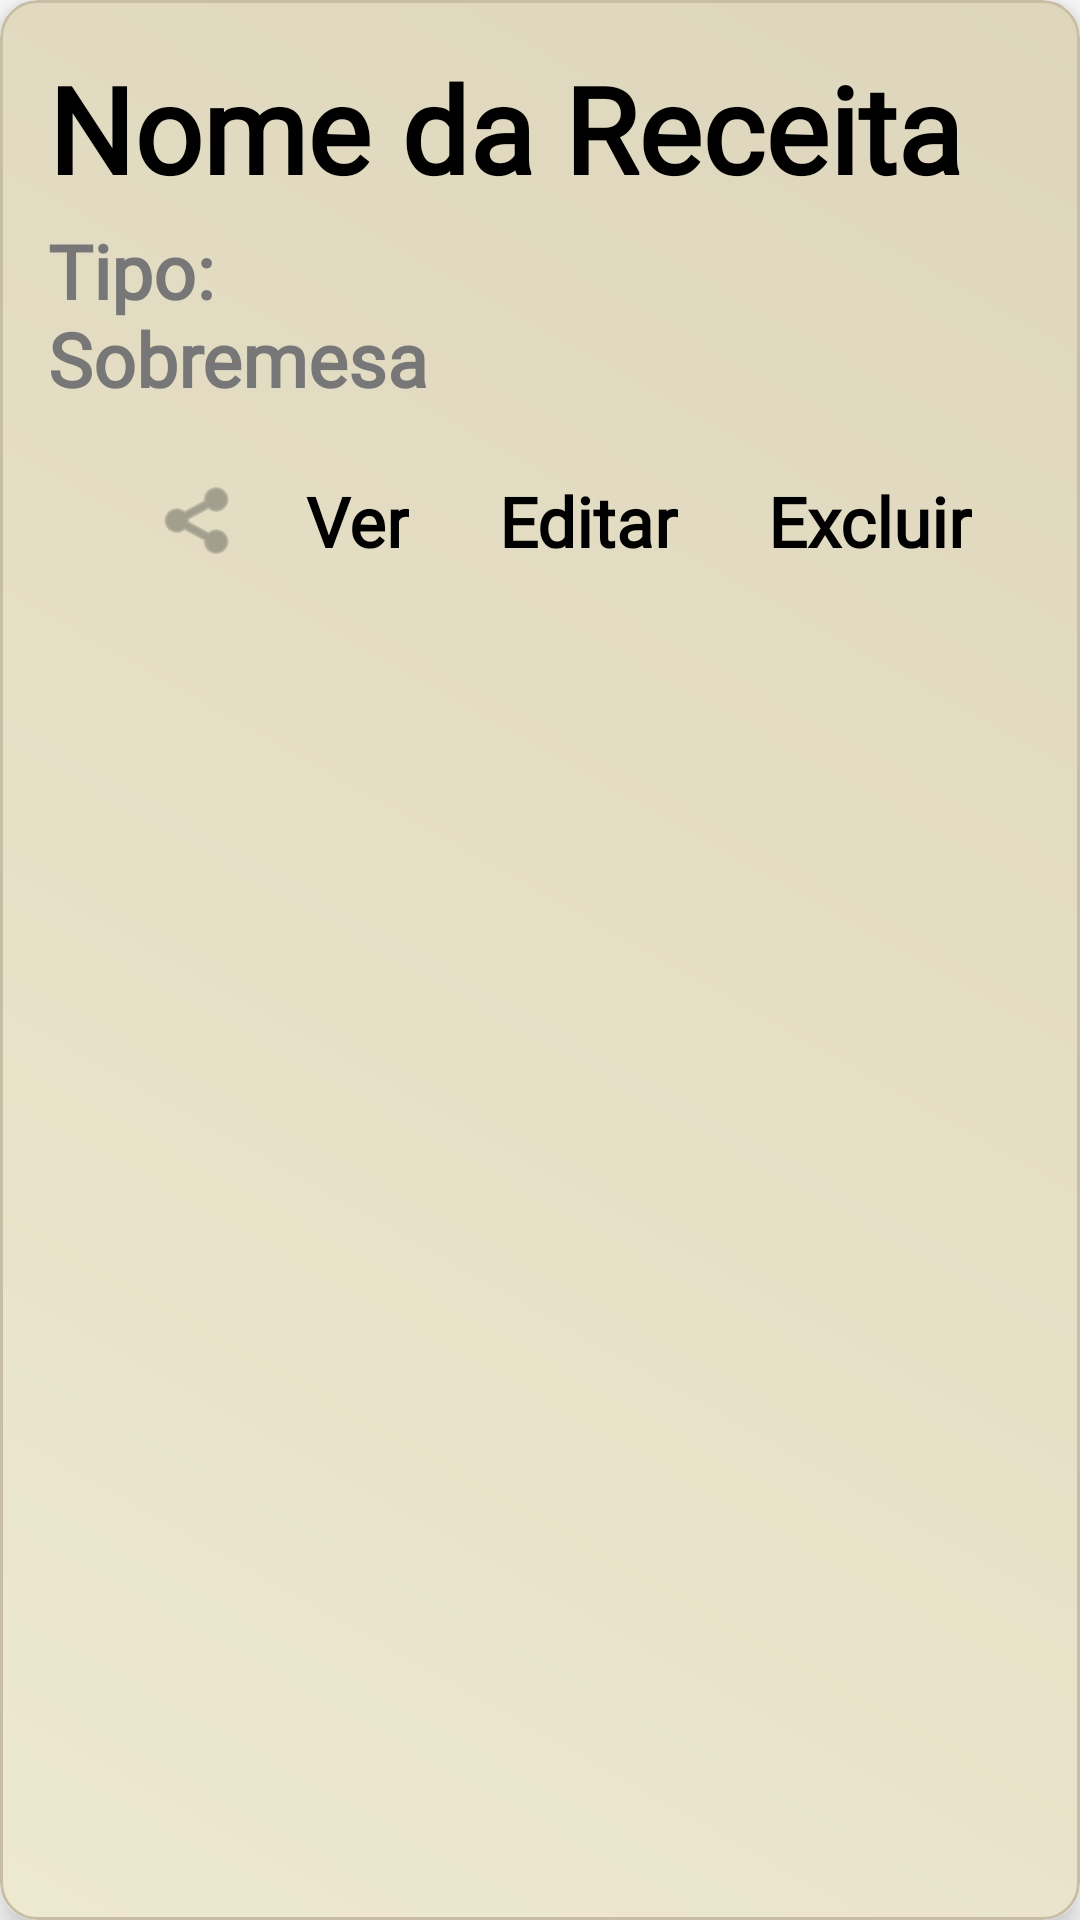

Icon bounding boxes for this 1080 x 1920 phone screenshot, format (x1, y1, x2, y2):
Partilhar Receita: (165, 487, 228, 554)
